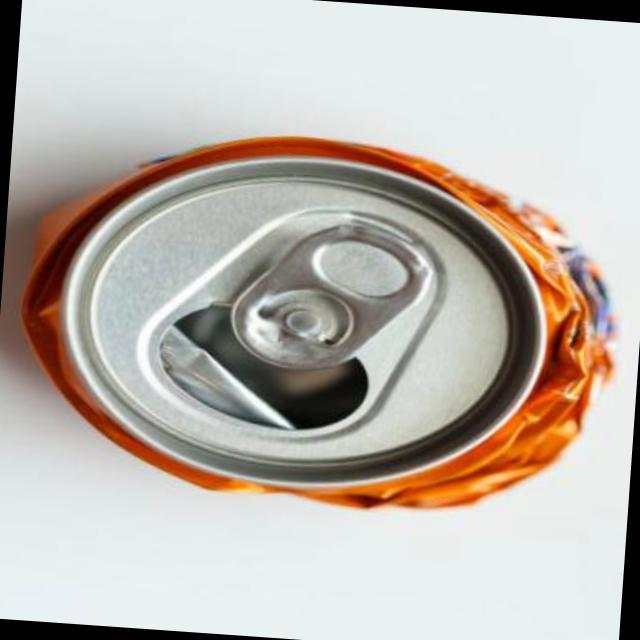metal: (26, 135, 615, 504)
